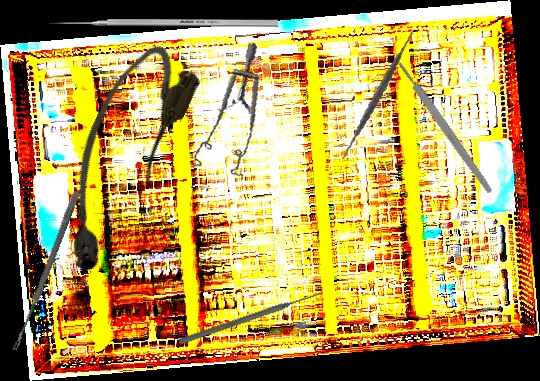Cannula: (33, 34, 207, 282)
Pusher: (177, 288, 325, 347), (49, 19, 278, 27)
Scalpel Handle: (396, 60, 494, 195)
Spatula Surgical: (310, 27, 446, 162)
Speculum: (171, 41, 281, 187)
Surgical Spoon: (11, 190, 81, 352)
